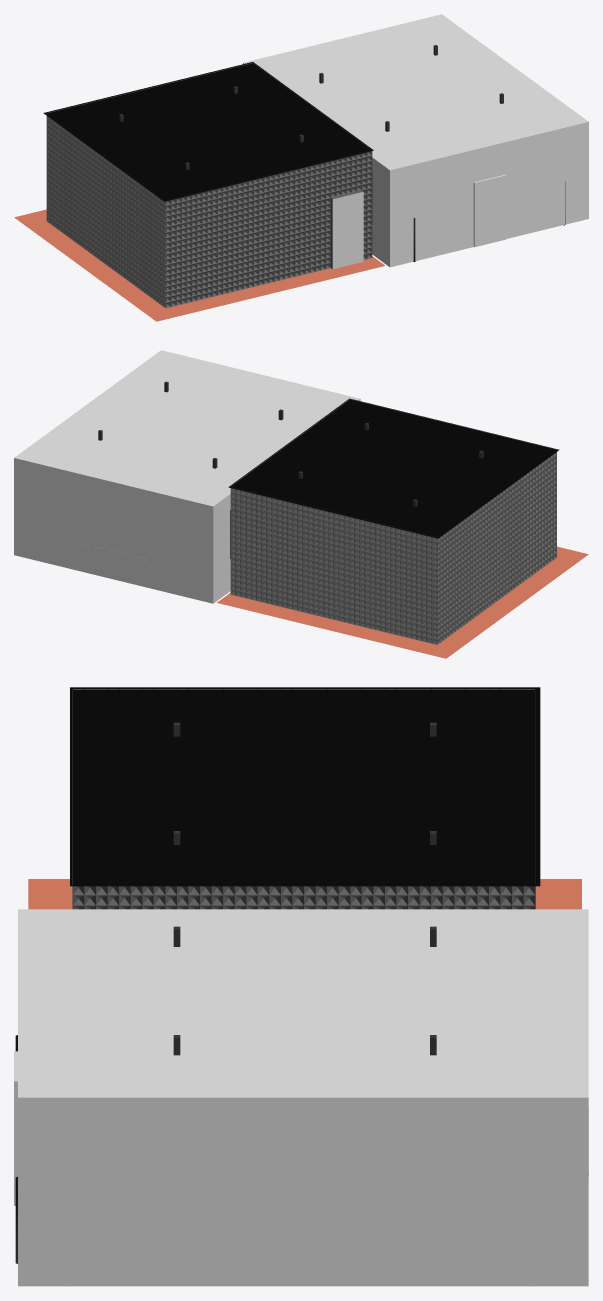
The model's file is Recording_Studio.fbx.
The picture shows the model from 3 angles, top to bottom: view 1: azimuth 30°, elevation 25°; view 2: azimuth 150°, elevation 25°; view 3: azimuth 270°, elevation 25°; orthographic projection. The views are drawn at different scales.
Visible parts, largest first — view 1: Plane; view 2: Plane; view 3: Plane.
Part boxes in pixels (<box>): Plane: <box>14,14,588,321</box>; Plane: <box>14,350,588,658</box>; Plane: <box>14,687,588,1286</box>.
Size of the model in its own units: 3008 by 762 by 1795.
